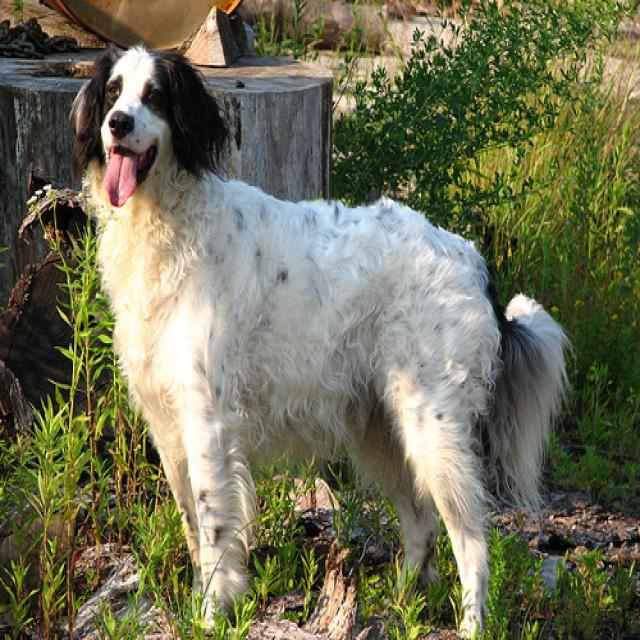dog-english_setter: (64, 38, 575, 637)
